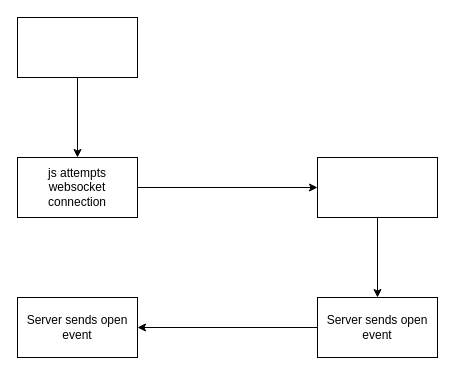
The diagram is 455 pixels wide and 375 high, and some of its shapes have lost their labels. The centre of each missing label's shape, as x and y in pixels:
"Navigate to control.html" belongs at point (77, 47).
"Websocket server receives new connection" belongs at point (377, 187).
